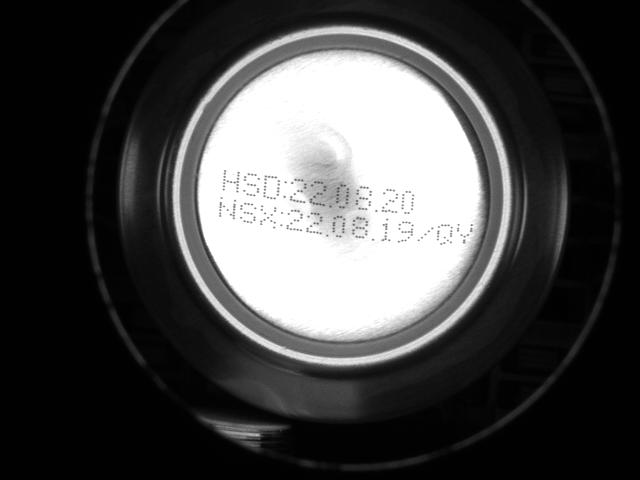.: (323, 219, 331, 239), (328, 190, 334, 211), (370, 227, 378, 242), (373, 200, 379, 213)
/: (415, 223, 435, 246)
0: (334, 180, 350, 210), (400, 186, 415, 218), (330, 213, 347, 239)
1: (380, 216, 393, 247)
2: (308, 177, 327, 208), (289, 176, 308, 205), (381, 185, 399, 214), (286, 206, 304, 234), (303, 210, 323, 235)
8: (351, 214, 370, 242), (354, 183, 372, 212)
9: (396, 218, 414, 245)
:: (282, 178, 288, 200), (278, 207, 284, 229)
D: (262, 172, 281, 201)
H: (221, 166, 241, 195)
N: (217, 194, 236, 221)
Q: (436, 220, 454, 251)
S: (241, 169, 262, 200), (239, 200, 257, 228)
X: (259, 200, 277, 232)
Y: (456, 220, 475, 249)
